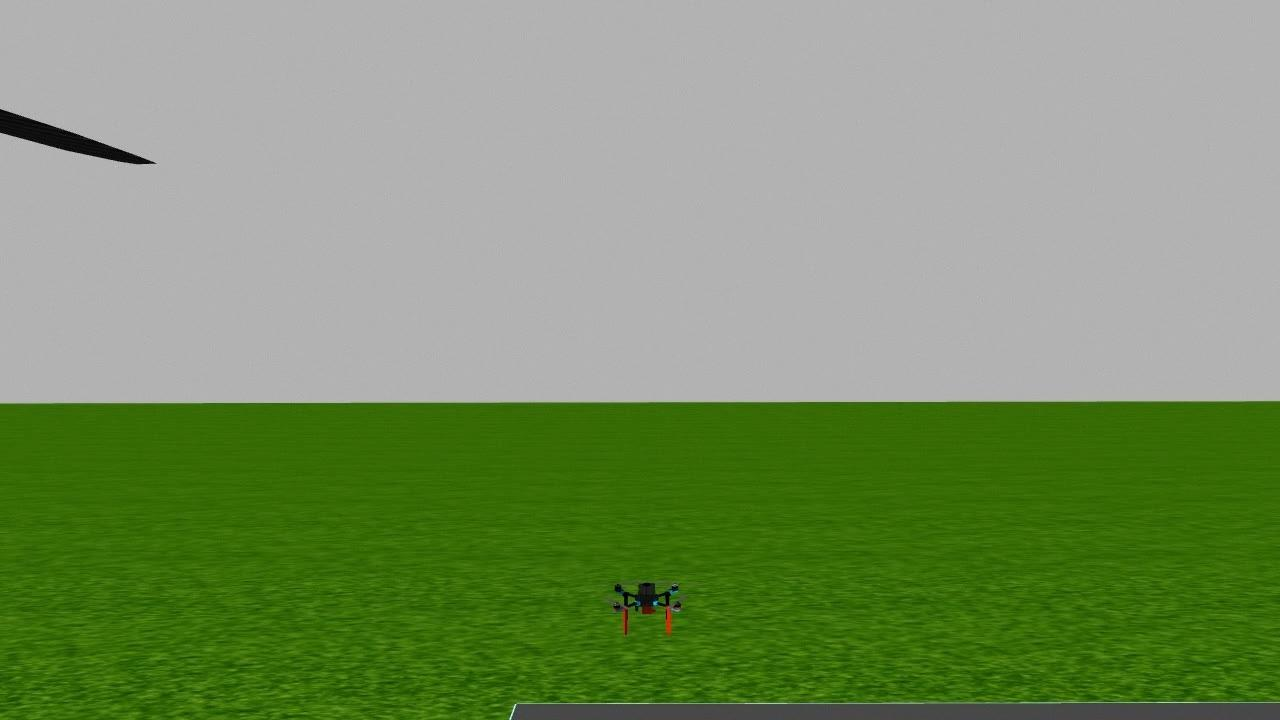UAV: (602, 564, 698, 646)
